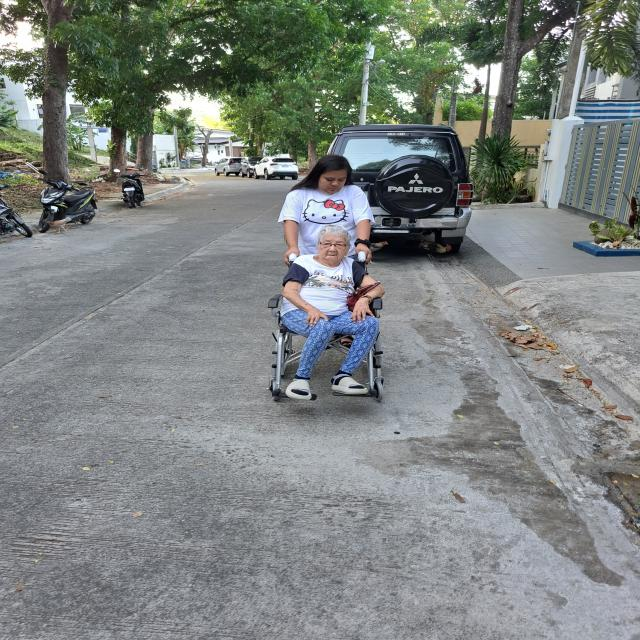wheelchairs: (259, 253, 404, 407)
